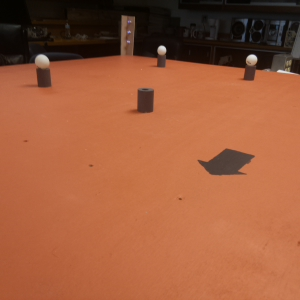corner: (119, 14, 136, 57)
obstacle: (33, 52, 53, 89), (133, 86, 157, 116), (243, 54, 260, 81), (155, 43, 168, 70)
start: (198, 146, 254, 178)
